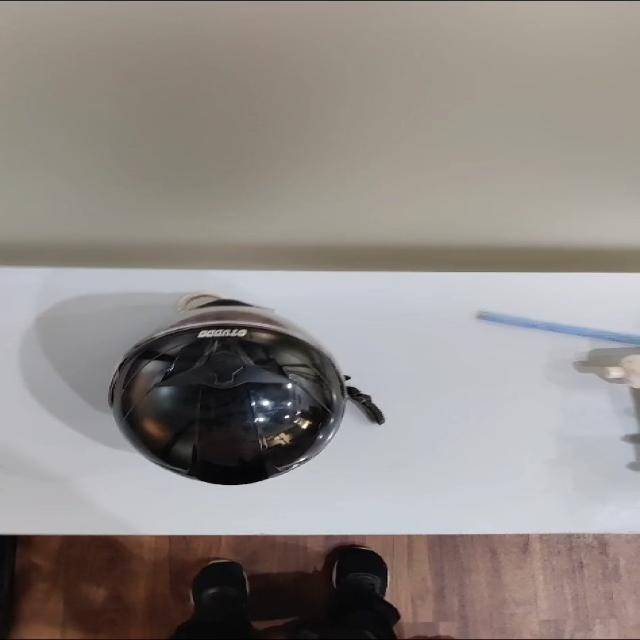helmet: (76, 303, 390, 495)
